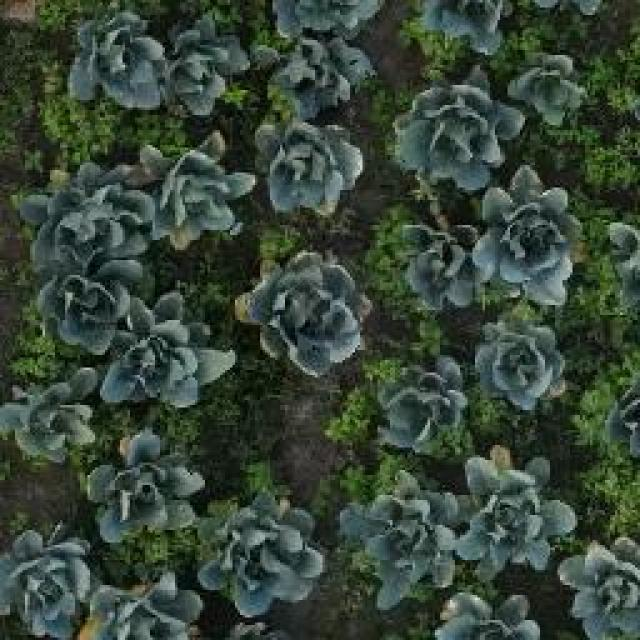cabbage: (480, 170, 586, 307), (450, 457, 575, 573), (98, 292, 210, 410), (248, 247, 360, 365), (202, 495, 312, 613), (58, 0, 168, 118), (356, 486, 462, 593), (401, 92, 521, 186), (144, 140, 252, 240), (91, 438, 197, 536), (34, 178, 147, 267), (1, 528, 88, 635), (266, 118, 364, 212), (378, 359, 470, 452), (479, 317, 571, 409), (40, 268, 134, 352), (10, 371, 96, 461), (79, 577, 208, 637), (564, 539, 640, 640), (396, 221, 483, 308), (260, 34, 362, 102), (171, 30, 252, 112), (514, 56, 590, 132), (410, 0, 508, 58), (436, 593, 538, 640)
